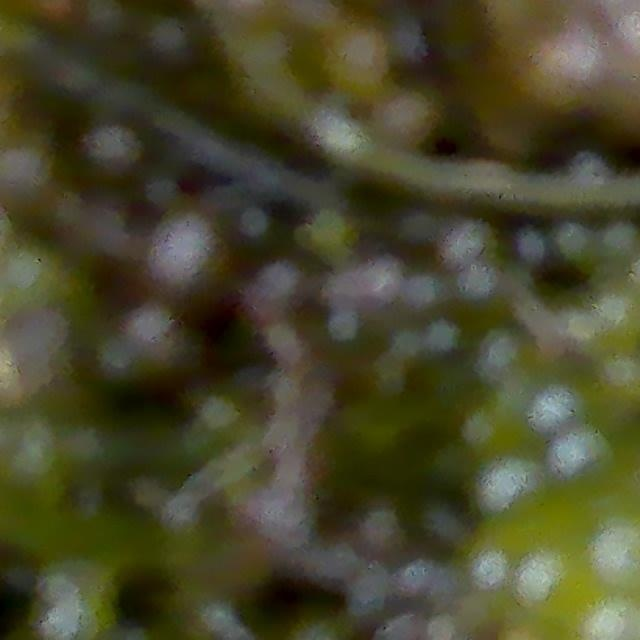SeaGrape: (138, 207, 224, 285), (516, 551, 595, 631), (83, 122, 144, 189), (549, 424, 609, 477)
